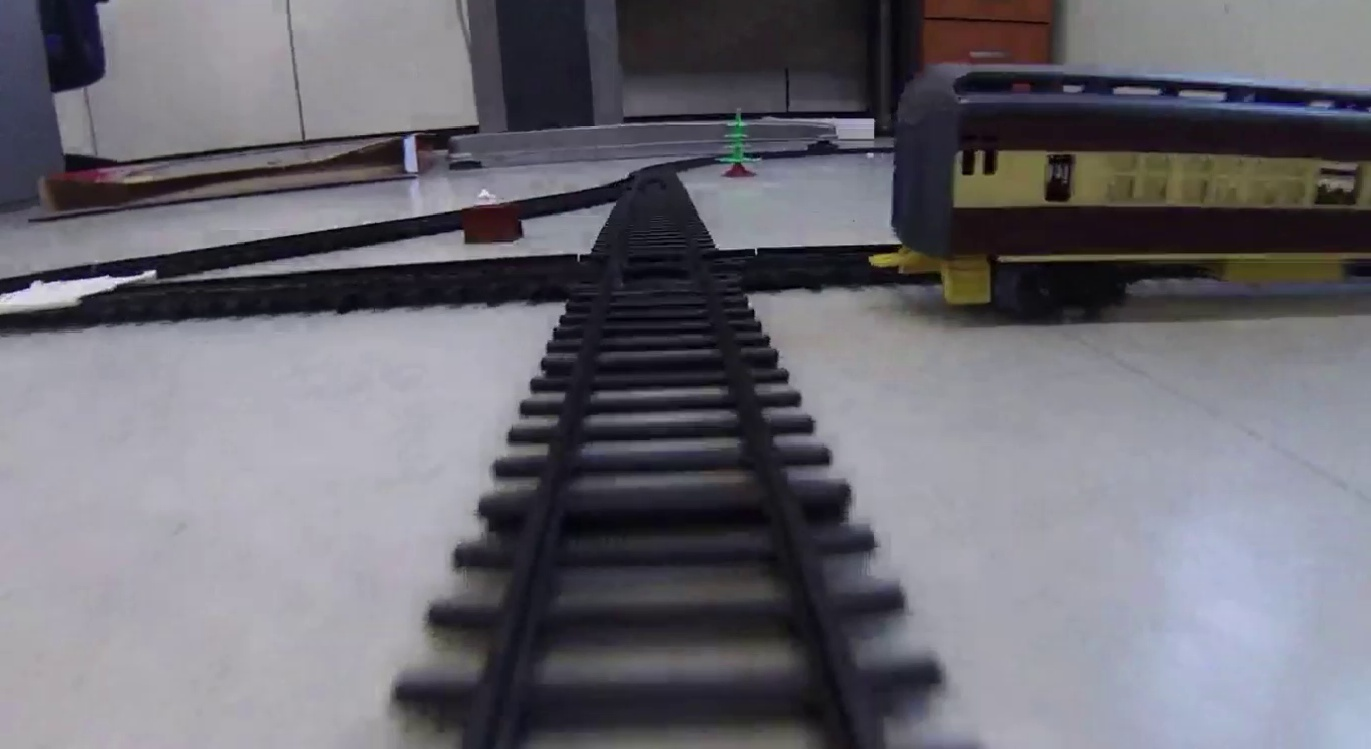box: (463, 205, 522, 244)
tree: (716, 110, 761, 179)
web: (2, 270, 154, 302)
